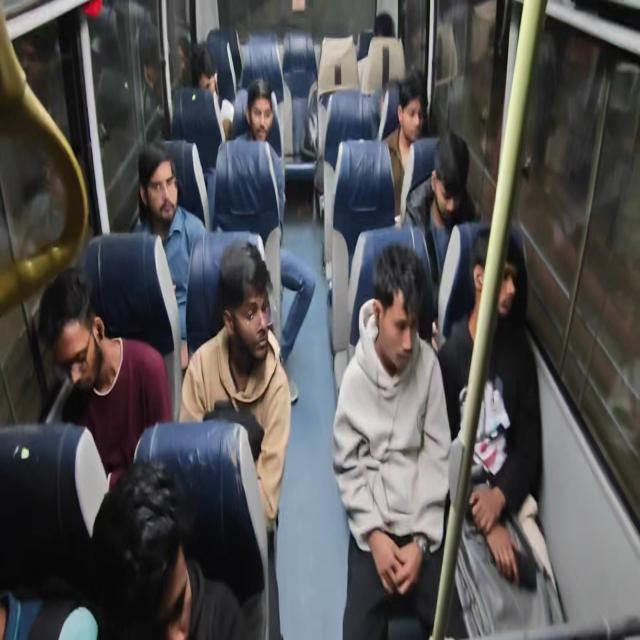person: (209, 250, 337, 470), (106, 450, 238, 640), (36, 230, 134, 452), (373, 224, 451, 358), (102, 123, 185, 232), (453, 235, 522, 366), (419, 114, 473, 220), (398, 97, 446, 153), (231, 76, 271, 140), (195, 53, 233, 112), (366, 0, 400, 65)
